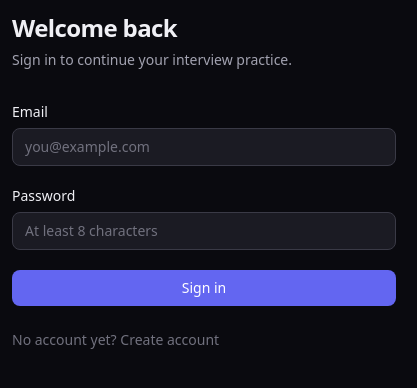
it: AuthForm sign-in › rejects a malformed email
Type "not-an-email" into the field labelled "Email" at (204, 147), box [12,128,396,166]
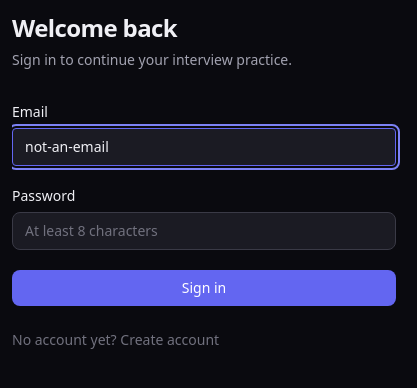
Type "password123" into the password field labelled "Password" at (204, 231), box [12,212,396,250]
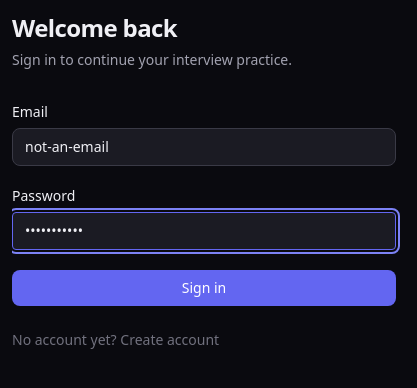
Click the button "Sign in" at (204, 288), box [12,270,396,306]
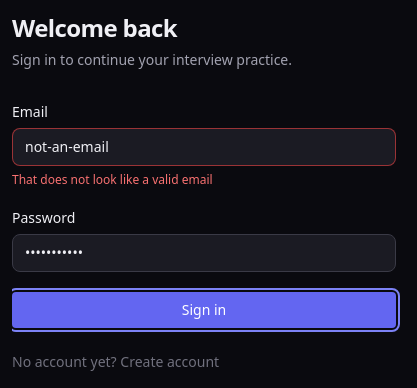
Now the text "That does not look like a valid email" is shown, box [12,171,213,188]
